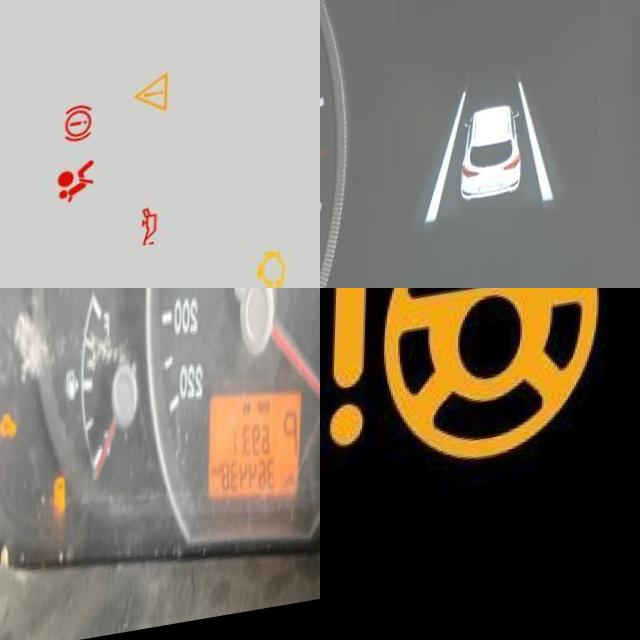Electronic Power Steering: (331, 288, 598, 494)
